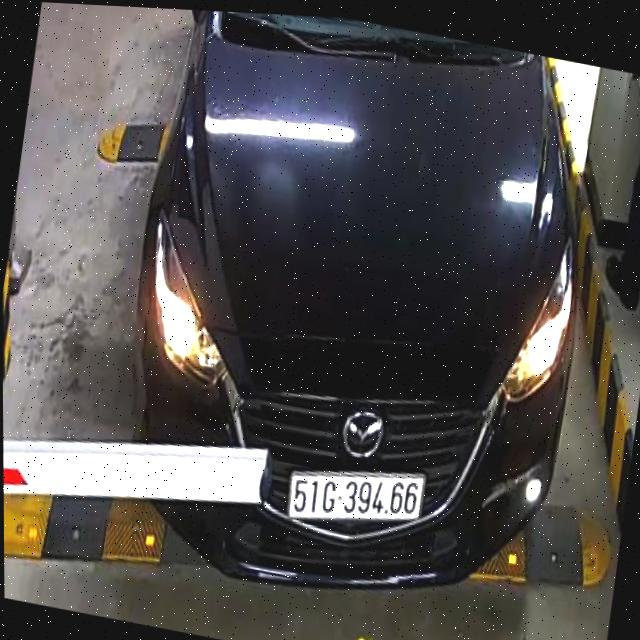car: (89, 5, 621, 640)
plate: (285, 449, 426, 547)
